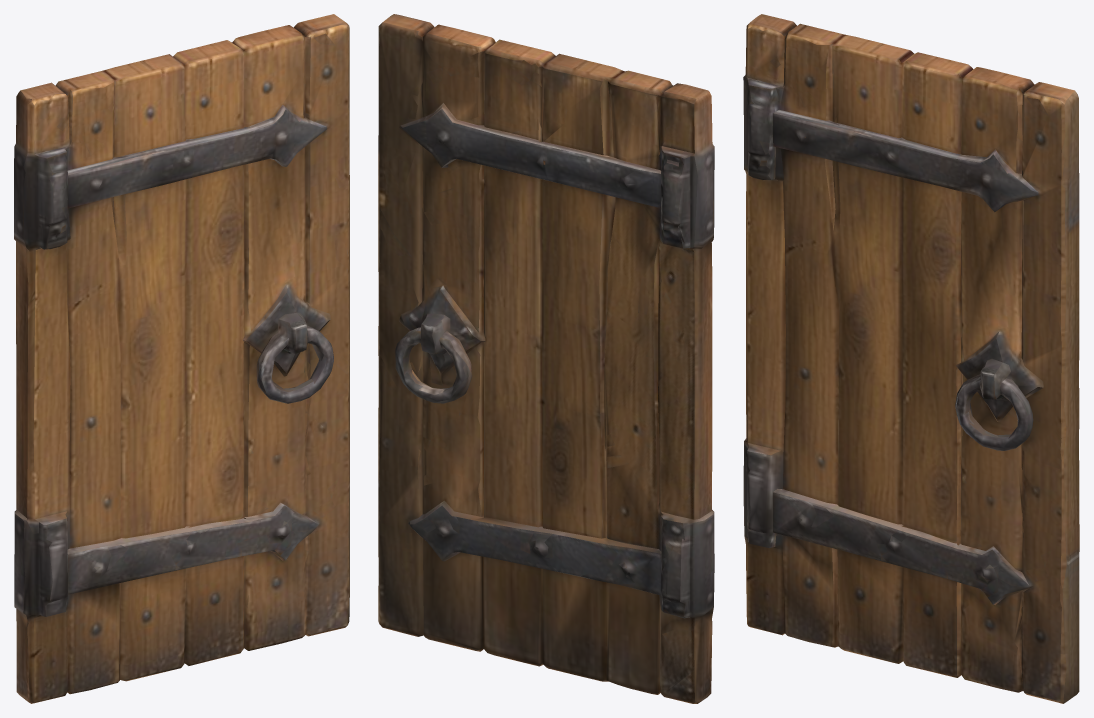
The picture shows the model from 3 angles, left to right: view 1: azimuth 30°, elevation 25°; view 2: azimuth 150°, elevation 25°; view 3: azimuth 330°, elevation 25°; orthographic projection.
Visible parts, largest first — view 1: geometry_0; view 2: geometry_0; view 3: geometry_0.
Boxes of the visible parts, bbox=[...] form: geometry_0: bbox=[14, 14, 349, 703]; geometry_0: bbox=[378, 14, 714, 703]; geometry_0: bbox=[743, 14, 1079, 703].
Size of the model in its own units: 1.8 by 3.2 by 0.4099.
Materials: 1 (1 with a texture image).
